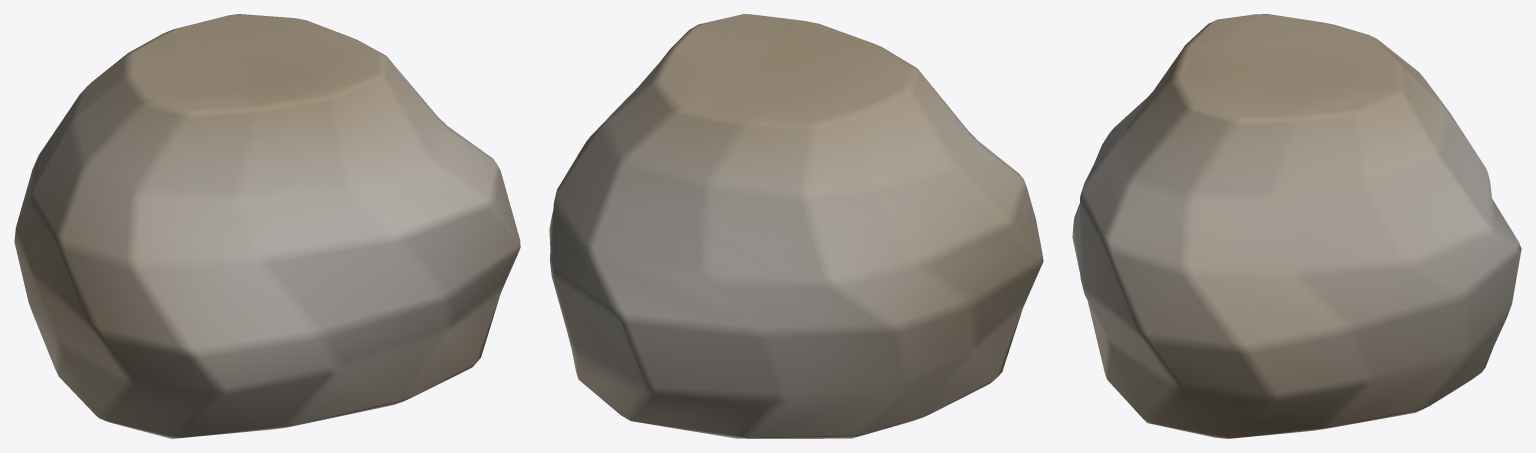
The model's file is stone_bigA_v2.fbx.
3 renders of one model, left to right at view 1: azimuth 30°, elevation 25°; view 2: azimuth 150°, elevation 25°; view 3: azimuth 270°, elevation 25°, orthographic. The views are drawn at different scales.
Parts seen in each view (by area): view 1: pCube1; view 2: pCube1; view 3: pCube1.
Boxes of the visible parts, box(x1,y1,x2,y2) form: pCube1: box(14, 14, 520, 438); pCube1: box(549, 14, 1043, 438); pCube1: box(1072, 14, 1521, 438).
Bounding box in the file's own units: 17.42 × 11.13 × 15.82.
